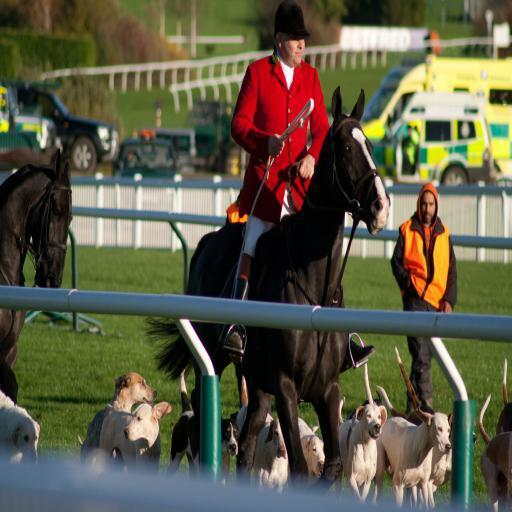horse: (145, 86, 394, 512), (0, 150, 73, 374)
